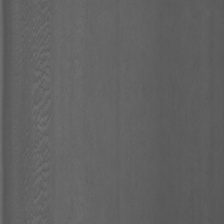silk_spot: (24, 1, 57, 212)
